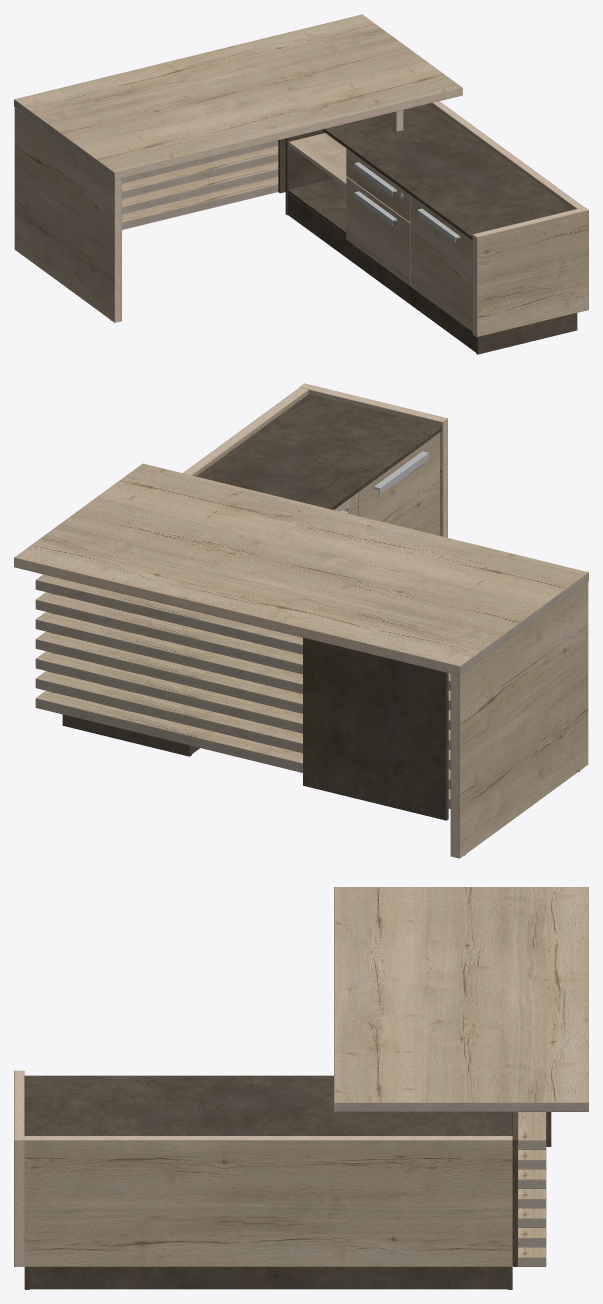
3 renders of one model, top to bottom at view 1: azimuth 30°, elevation 25°; view 2: azimuth 150°, elevation 25°; view 3: azimuth 270°, elevation 25°, orthographic. The views are drawn at different scales.
Visible parts, largest first — view 1: Box1578995149, Line1789532200, Line1789532211, Line1789532197, Line1789532193, Line1789532195, Line1789532187, Line1789532206, Line1789532205, Line1789532207, Line1789532186, Line1789532184 (+5 smaller); view 2: Box1578995149, Line1789532200, Line1789532201, Line1789532211, Line1789532205, Line1789532206, Line1789532207, Line1789532208, Line1789532204, Line1789532203, Line1789532209, Line1789532193 (+4 smaller); view 3: Line1789532198, Box1578995149, Line1789532211, Line1789532188, Line1789532197, Line1789532209, Line1789532199, Line1789532203, Line1789532205, Line1789532207, Line1789532204, Line1789532206 (+1 smaller).
Part boxes in pixels (x1,y1,x2,y2): Box1578995149: (14, 14, 462, 180); Line1789532200: (14, 107, 121, 322); Line1789532211: (322, 103, 573, 240); Line1789532197: (472, 207, 588, 337); Line1789532193: (410, 195, 472, 331); Line1789532195: (346, 176, 410, 285); Line1789532187: (288, 193, 475, 352); Line1789532206: (122, 161, 278, 214); Line1789532205: (122, 146, 278, 199); Line1789532207: (122, 176, 278, 229); Line1789532186: (288, 178, 346, 235); Line1789532184: (476, 313, 577, 354); Box1578995149: (14, 463, 588, 675); Line1789532200: (450, 582, 588, 858); Line1789532201: (303, 638, 448, 820); Line1789532211: (196, 394, 441, 509); Line1789532205: (35, 651, 450, 769); Line1789532206: (35, 671, 450, 789); Line1789532207: (35, 690, 450, 808); Line1789532208: (35, 592, 450, 710); Line1789532204: (35, 631, 450, 749); Line1789532203: (35, 612, 450, 729); Line1789532209: (35, 574, 450, 690); Line1789532193: (358, 432, 439, 535); Line1789532198: (24, 1136, 512, 1266); Box1578995149: (334, 887, 588, 1111); Line1789532211: (24, 1075, 512, 1135); Line1789532188: (30, 1267, 507, 1289); Line1789532197: (14, 1070, 24, 1266); Line1789532209: (518, 1112, 546, 1149); Line1789532199: (512, 1112, 517, 1266); Line1789532203: (518, 1169, 546, 1188); Line1789532205: (518, 1208, 546, 1227); Line1789532207: (518, 1247, 546, 1266); Line1789532204: (518, 1189, 546, 1208); Line1789532206: (518, 1228, 546, 1247).
Bounding box in the file's own units: 1.8 × 0.75 × 2.03.
Materials: 8 (6 with a texture image).
